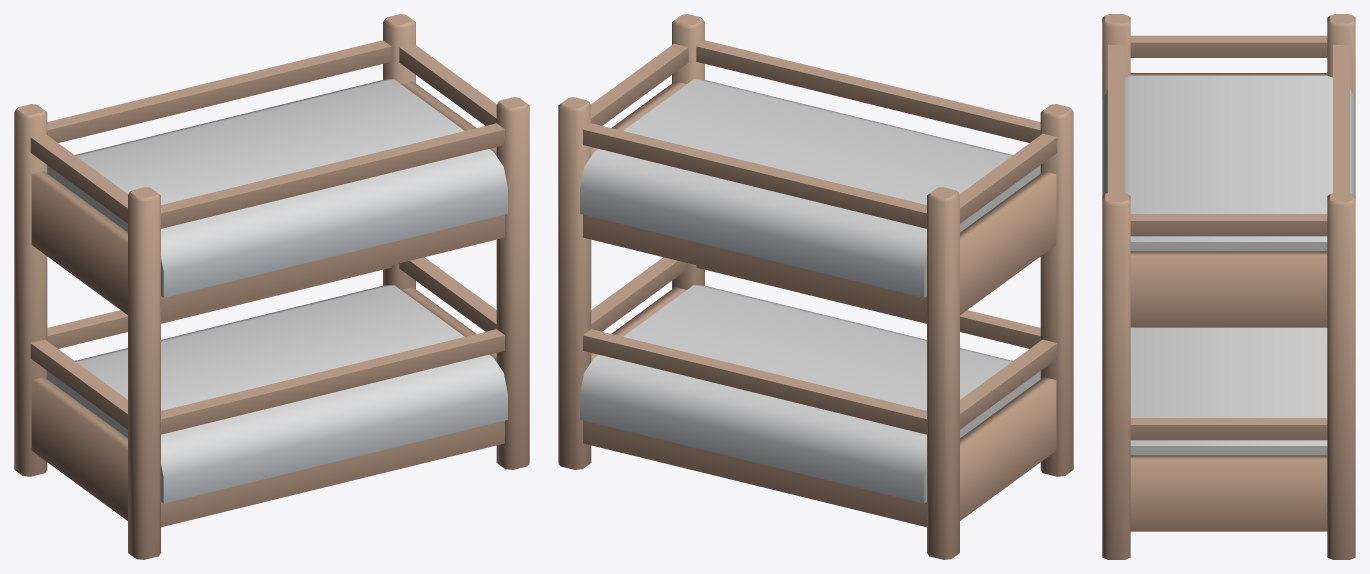
Rendered from bed-bunk-railing.glb.
3 renders of one model, left to right at view 1: azimuth 30°, elevation 25°; view 2: azimuth 150°, elevation 25°; view 3: azimuth 270°, elevation 25°, orthographic.
Visible parts, largest first — view 1: bed-bunk-railing; view 2: bed-bunk-railing; view 3: bed-bunk-railing.
Boxes of the visible parts, <box> form: bed-bunk-railing: <box>14,14,529,559</box>; bed-bunk-railing: <box>558,14,1073,559</box>; bed-bunk-railing: <box>1102,14,1355,559</box>.
Size of the model in its own units: 1.6 by 1.4 by 0.9.
